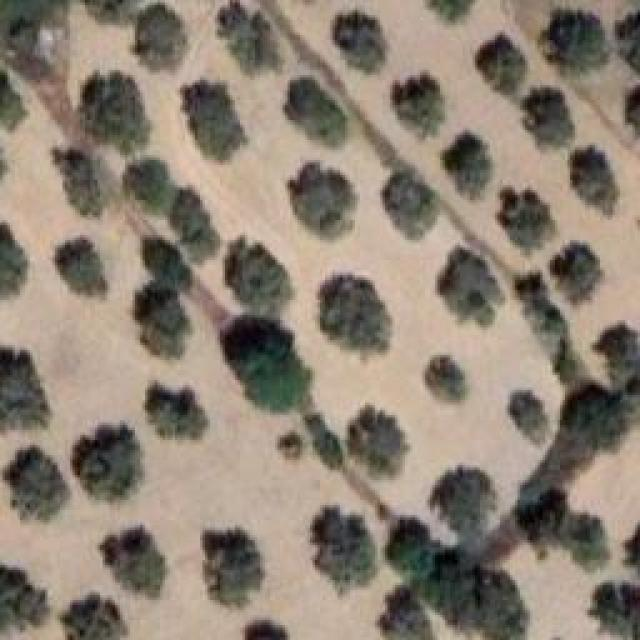Tree: (222, 313, 316, 413), (323, 273, 401, 363), (198, 525, 268, 610), (313, 503, 378, 589), (225, 238, 299, 311), (100, 525, 171, 601), (185, 80, 248, 161), (72, 425, 143, 496), (0, 445, 70, 517), (435, 250, 501, 326), (133, 285, 192, 365), (80, 73, 143, 147), (380, 168, 448, 236), (290, 162, 356, 232), (537, 10, 609, 74), (350, 408, 410, 482), (217, 0, 281, 69), (285, 75, 347, 145), (0, 347, 51, 429), (432, 463, 489, 535), (134, 2, 188, 73), (50, 147, 103, 217), (143, 235, 202, 296), (570, 145, 621, 215), (330, 8, 385, 72), (0, 568, 51, 637), (143, 382, 204, 439), (478, 568, 525, 640), (435, 550, 480, 625), (57, 587, 120, 640), (173, 192, 220, 262), (478, 33, 531, 95), (497, 188, 555, 244), (443, 138, 495, 198), (394, 77, 448, 134), (602, 320, 639, 402), (525, 90, 576, 149), (523, 493, 572, 553), (58, 235, 105, 297), (387, 515, 433, 577), (590, 585, 640, 640), (5, 27, 53, 84), (555, 240, 600, 300), (378, 590, 432, 639), (123, 160, 176, 207), (0, 228, 31, 302), (570, 517, 610, 574), (423, 355, 471, 402), (510, 385, 548, 438), (80, 0, 137, 31), (422, 0, 479, 28), (5, 0, 62, 27), (277, 428, 311, 466), (620, 8, 640, 71), (238, 617, 291, 640), (0, 78, 19, 129), (318, 435, 346, 469), (620, 528, 640, 571), (625, 85, 640, 130)
